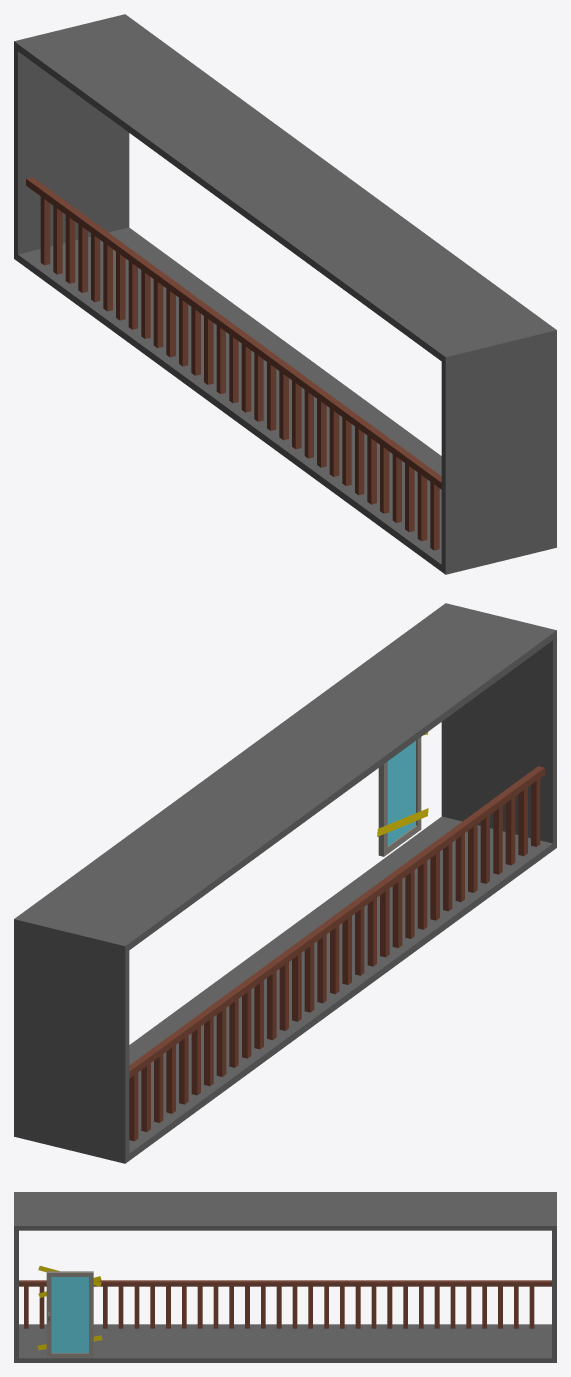
Rendered from Hallway1.fbx.
The picture shows the model from 3 angles, top to bottom: view 1: azimuth 30°, elevation 25°; view 2: azimuth 150°, elevation 25°; view 3: azimuth 270°, elevation 25°; orthographic projection. The views are drawn at different scales.
Parts seen in each view (by area): view 1: Cube, Cube.008, Cube.007; view 2: Cube, Cube.008, Cube.007, Door.002, Door; view 3: Cube, Cube.008, Cube.007, Door.002, Door.
Boxes of the visible parts, x1,y1,x2,y2 form: Cube: [14, 14, 556, 574]; Cube.008: [40, 196, 439, 550]; Cube.007: [26, 177, 441, 489]; Cube: [14, 603, 556, 1163]; Cube.008: [129, 778, 540, 1141]; Cube.007: [129, 766, 544, 1078]; Door.002: [387, 741, 415, 845]; Door: [378, 737, 421, 856]; Cube: [14, 1192, 556, 1362]; Cube.008: [24, 1286, 534, 1328]; Cube.007: [19, 1280, 551, 1286]; Door.002: [51, 1277, 88, 1352]; Door: [46, 1271, 93, 1357].
Size of the model in its own units: 223 by 387 by 1393.
